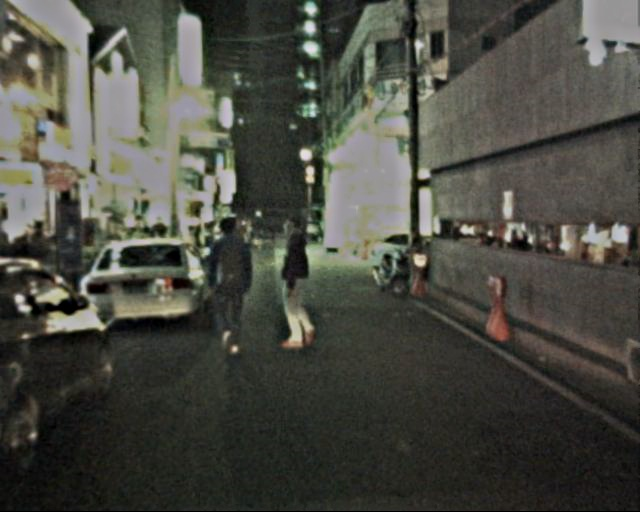person: (270, 215, 323, 349), (202, 221, 256, 351)
